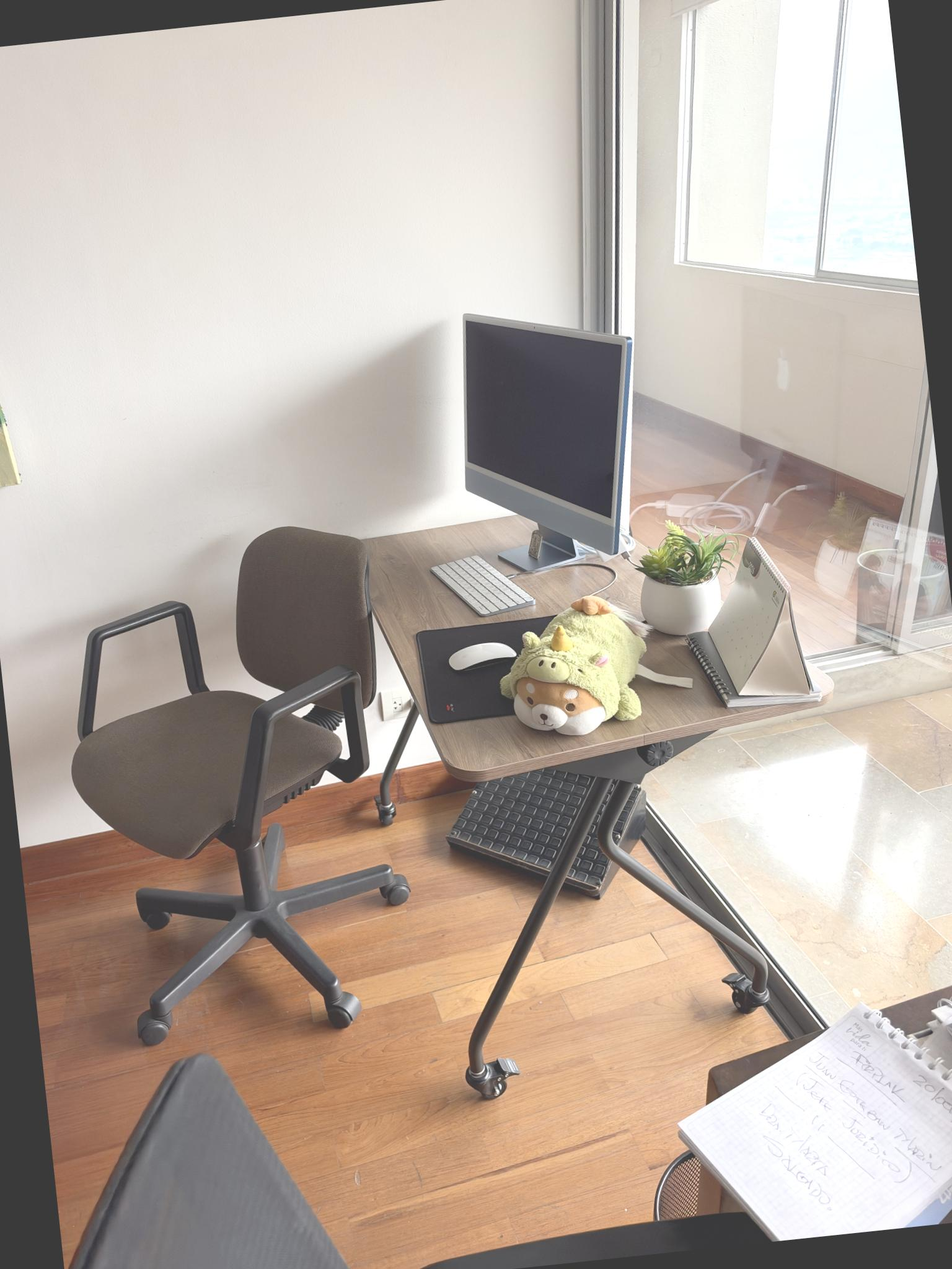peluche_martin: (490, 589, 663, 744)
